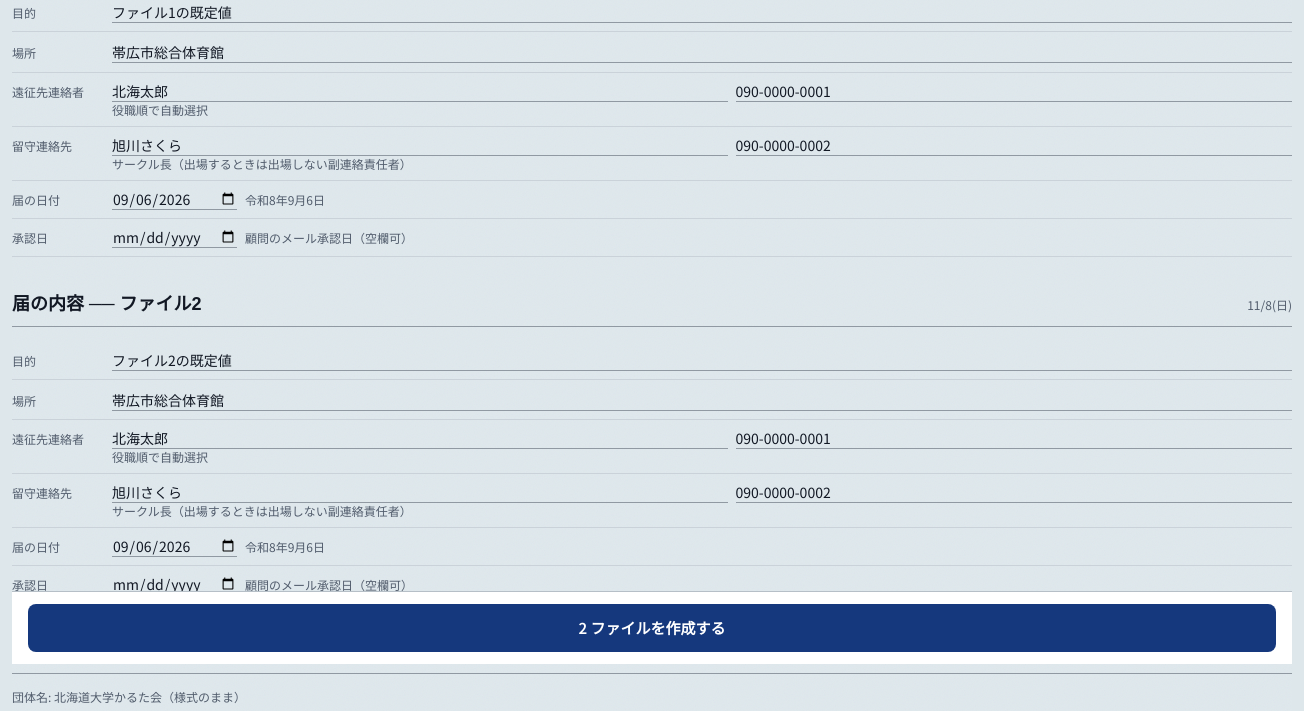
Test: 分割操作の競合と統合時の dirty（Codex R2） › ★2番目のファイルだけ手で直した値は統合後も残る
The width and height of the screenshot is (1304, 711).
(page scrolled)
# ファイル2だけを手で直す（ファイル1は未編集）。
Replace the text in the field named "ファイル2の目的" with "ファイル2で直した目的" at (702, 360), box [112,350,1292,370]
(page scrolled)
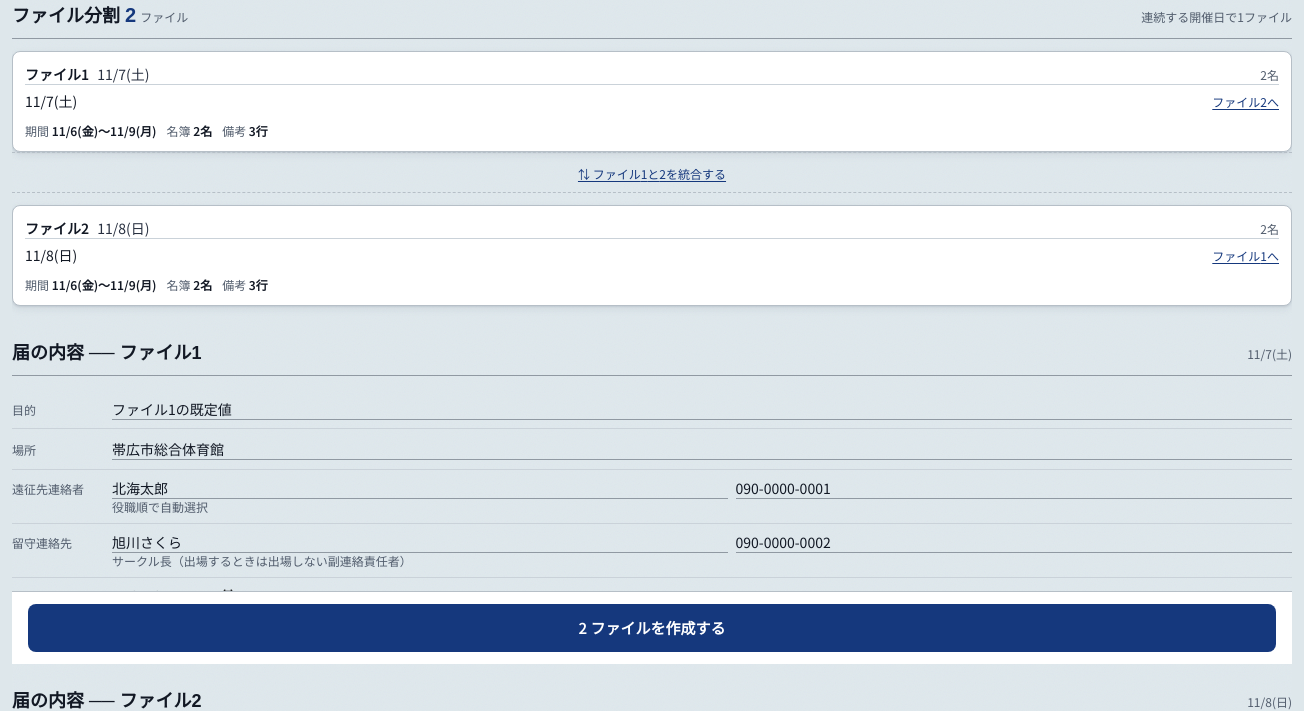
Click the button "⇅ ファイル1と2を統合する" at (652, 174), box [578,166,726,182]
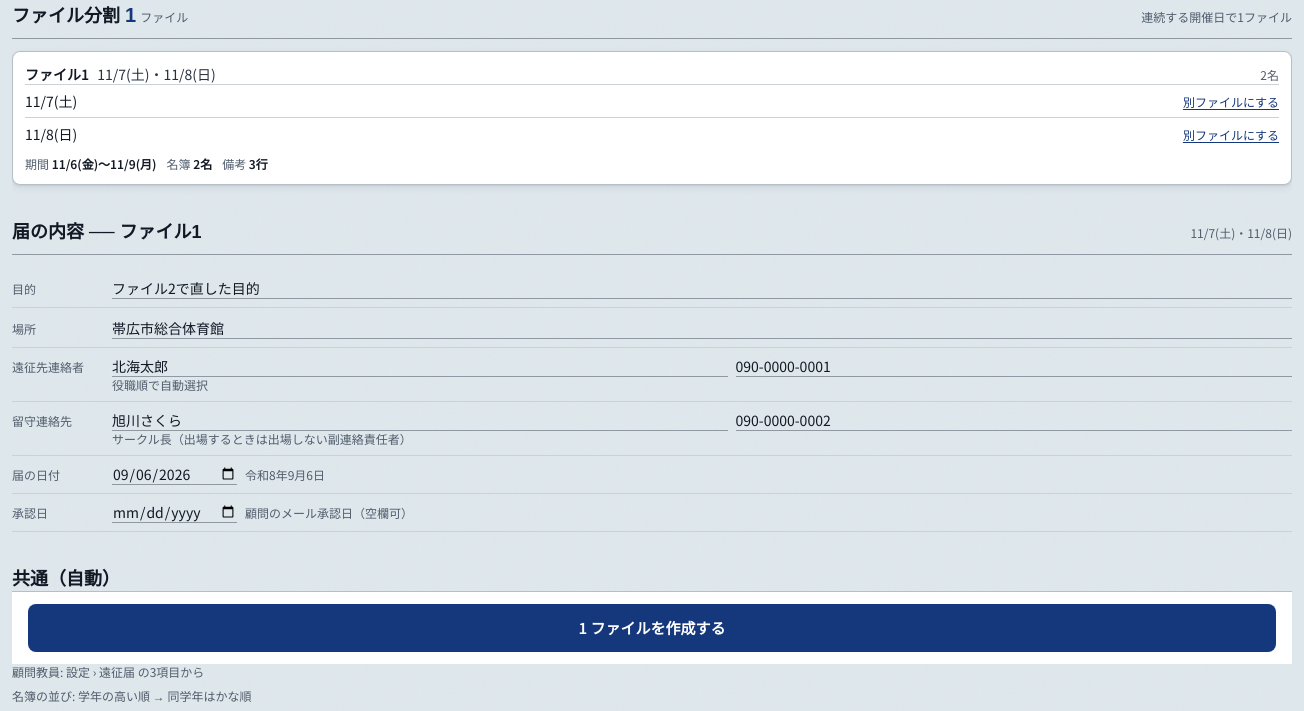
Expected: the field named "ファイル1の目的" holds "ファイル2で直した目的", [112,278,1292,299]
